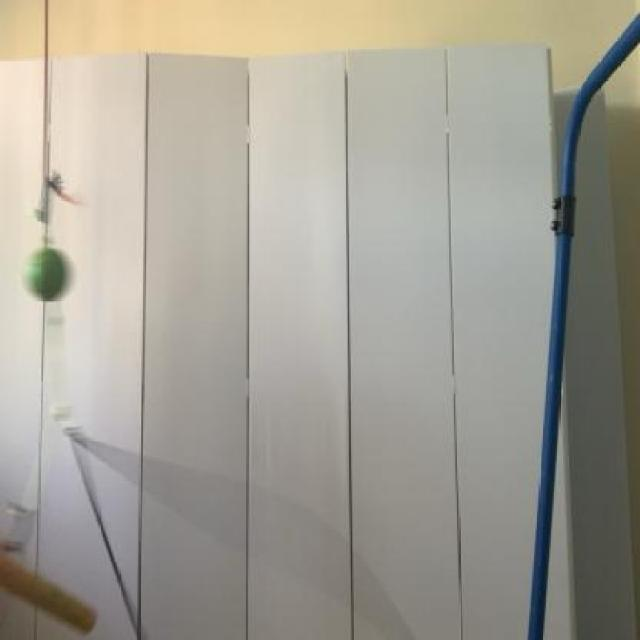baseball: (18, 240, 76, 308)
